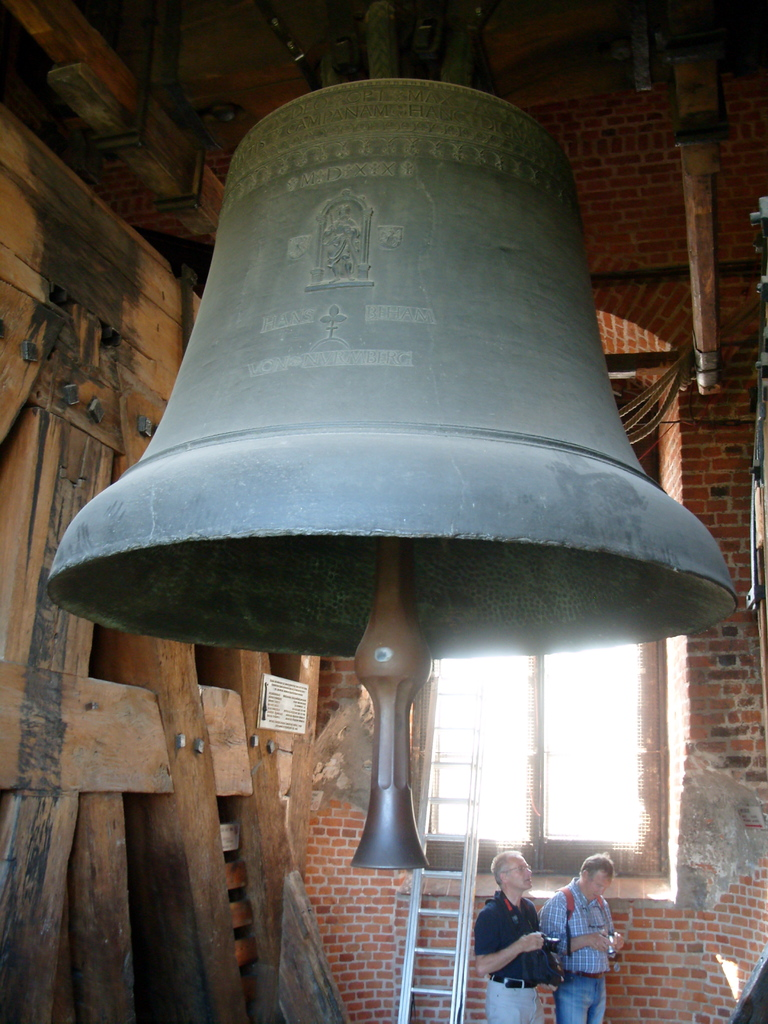Person: (474, 850, 544, 1023)
